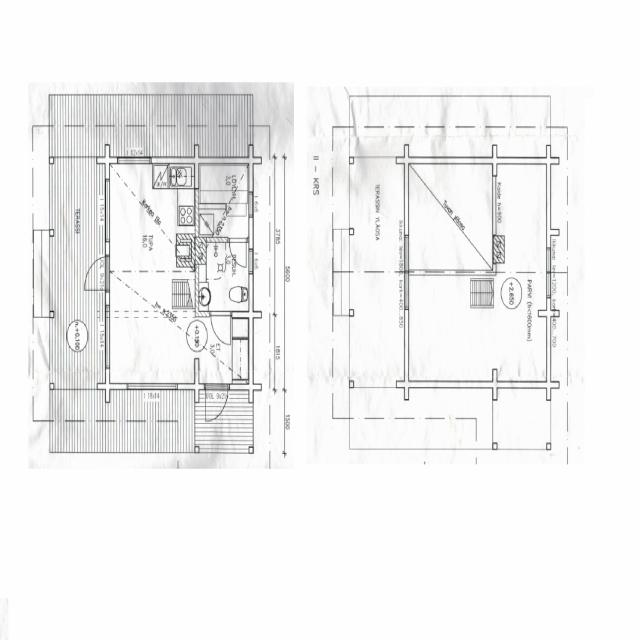door: (205, 384, 230, 427), (81, 254, 109, 289), (211, 311, 230, 347), (228, 236, 246, 268)
